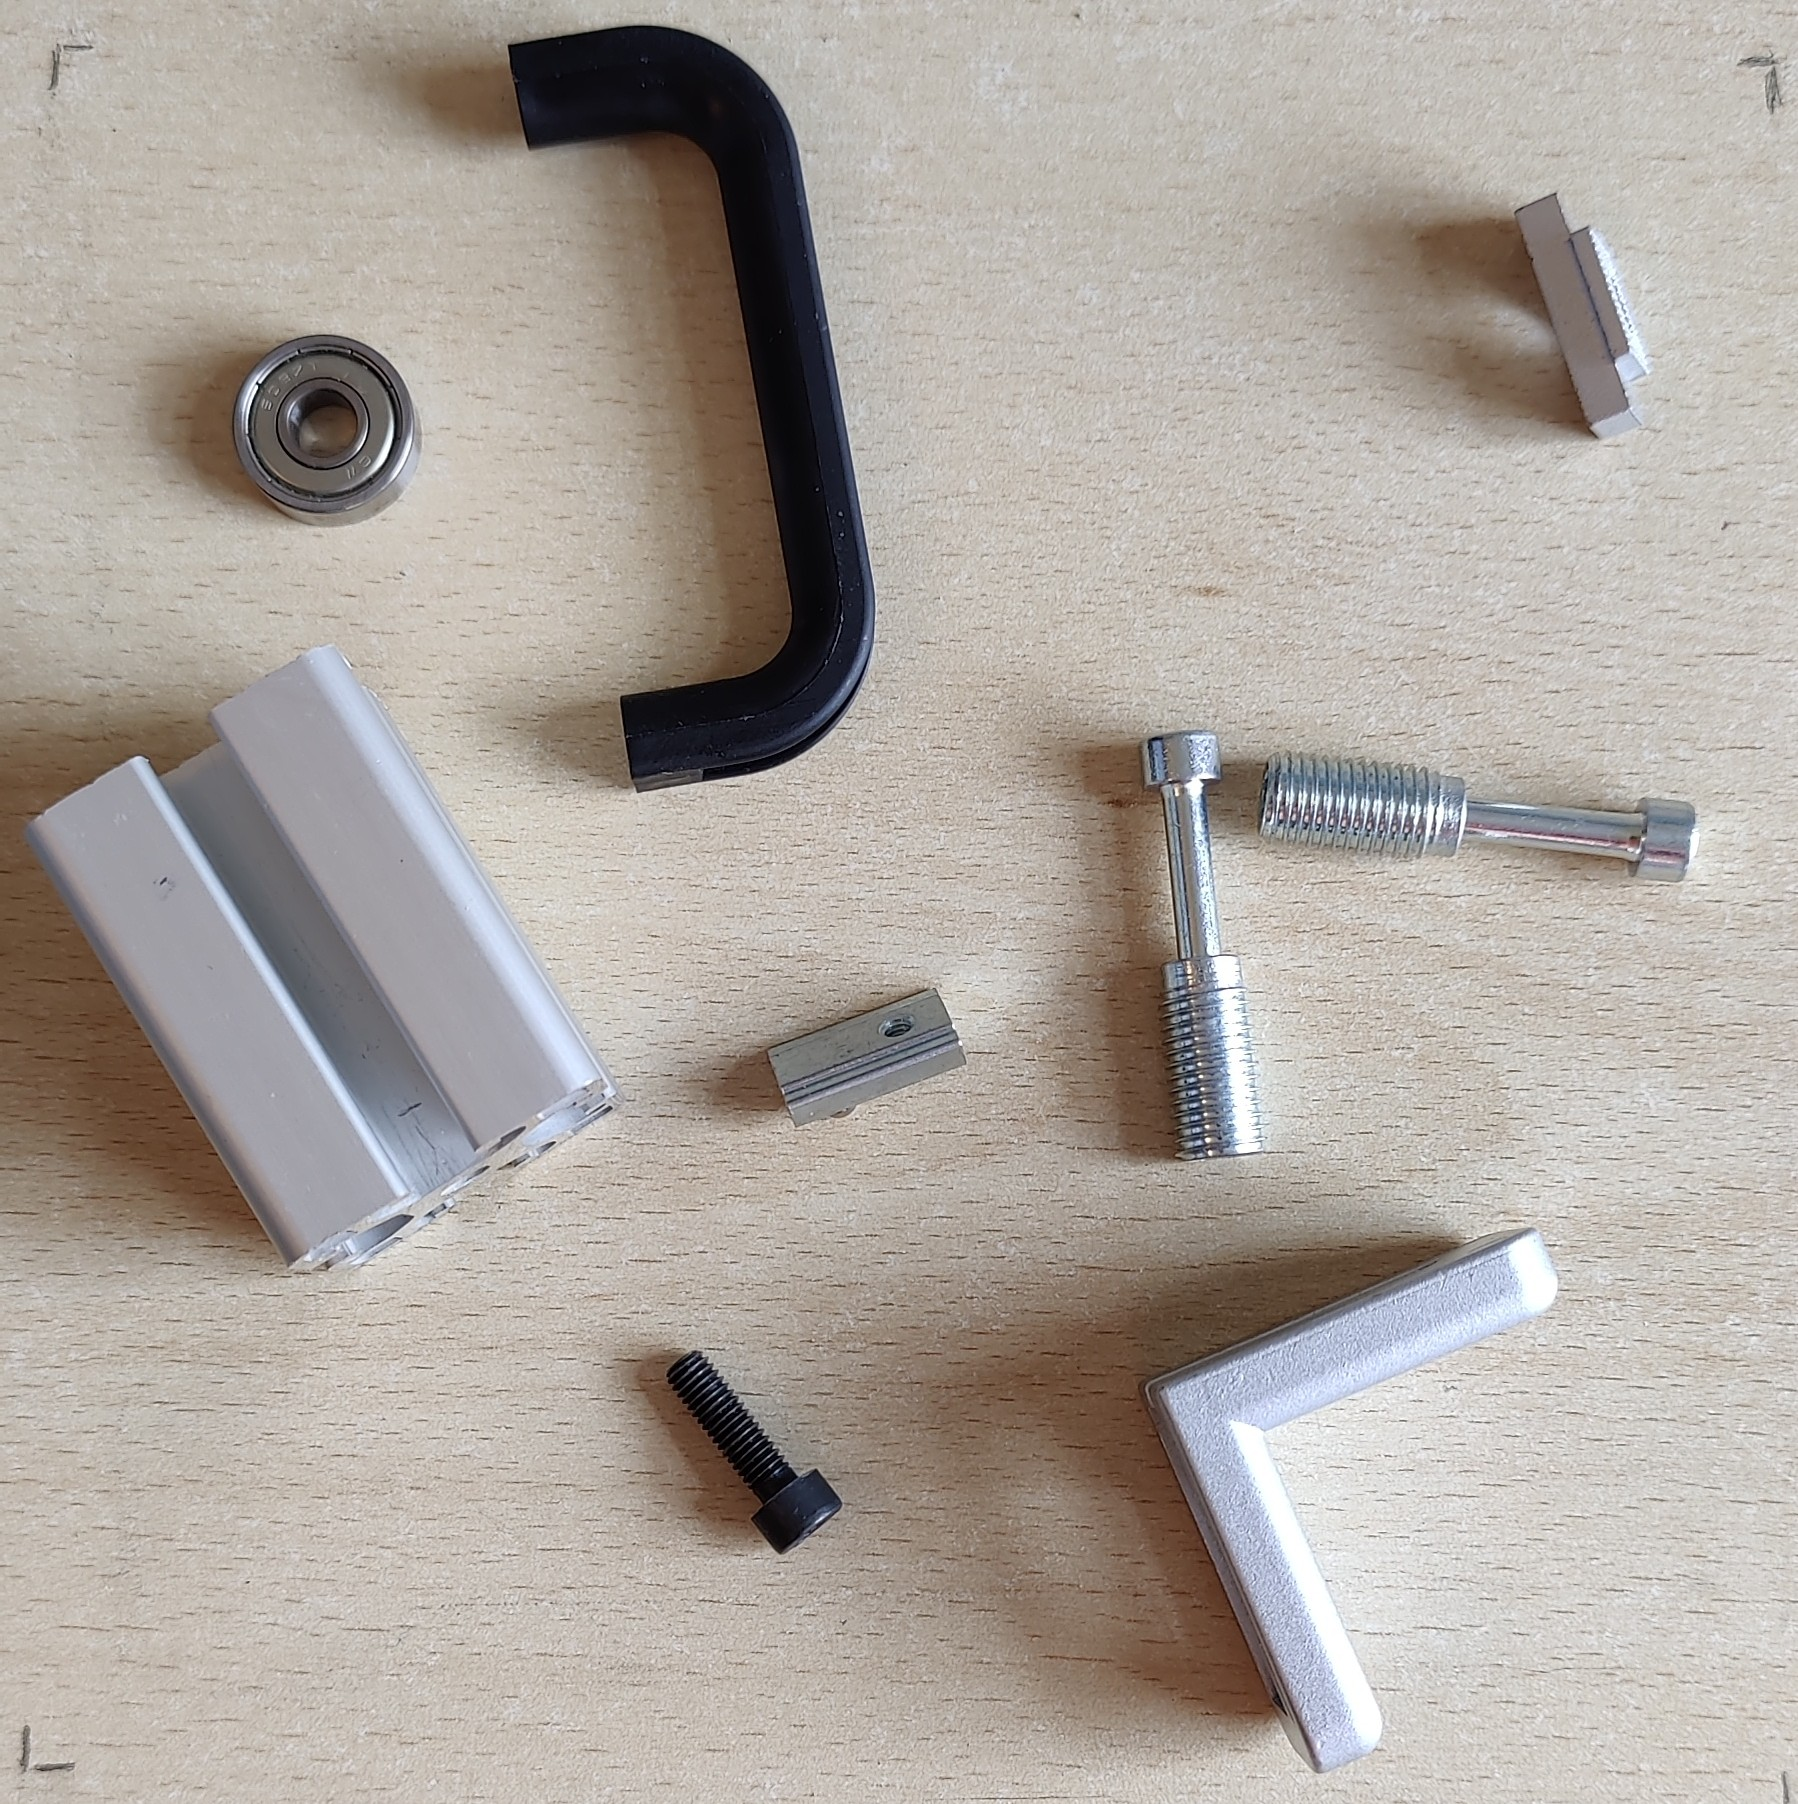Aluminium Extension: (26, 640, 629, 1277)
Ball Bearing: (227, 332, 425, 528)
Multiwinkel: (1138, 1226, 1563, 1773)
Pull Handle: (505, 21, 878, 797)
Shoulder Socket Head Cap Screw: (1255, 741, 1699, 886), (1136, 726, 1269, 1165)
Socket Head Cap Screw: (664, 1341, 845, 1555)
T Nut Square: (1513, 189, 1655, 444)
T Spring Nut: (766, 988, 970, 1131)
